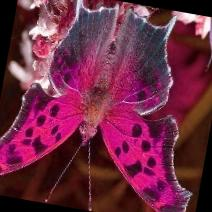butterfly: (0, 0, 191, 212)
